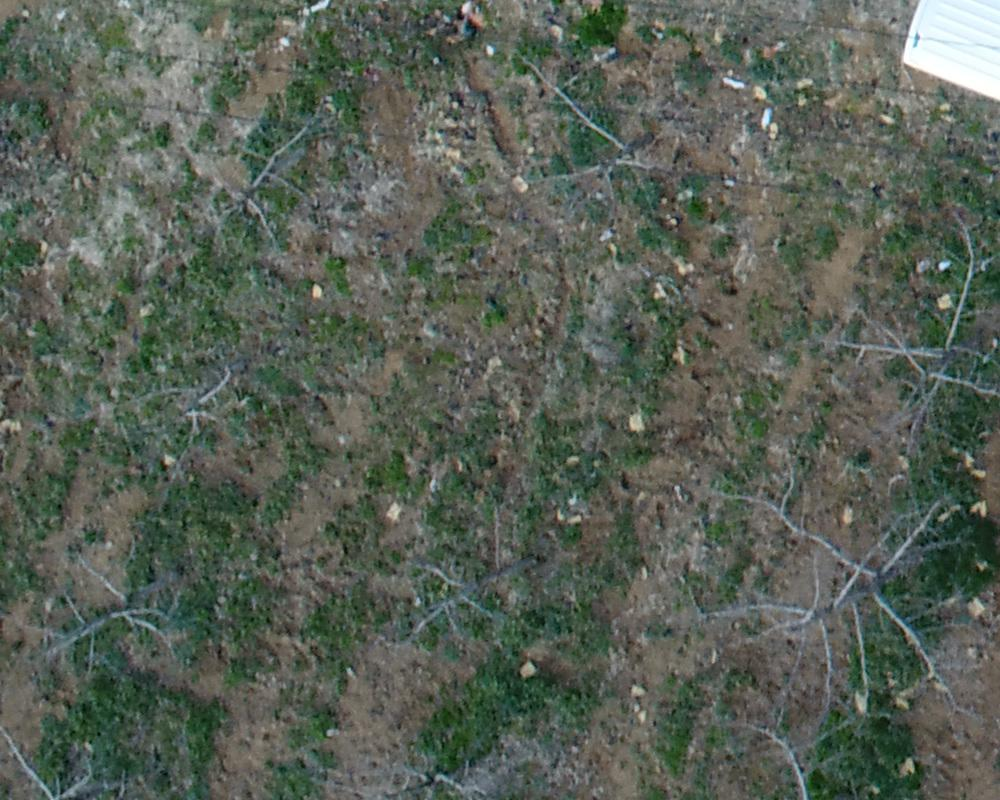apple: (692, 452, 981, 721), (809, 215, 990, 450), (495, 35, 696, 235), (171, 111, 334, 258), (20, 554, 186, 680), (406, 538, 568, 651), (121, 360, 261, 477), (10, 721, 136, 790), (324, 747, 509, 790)
